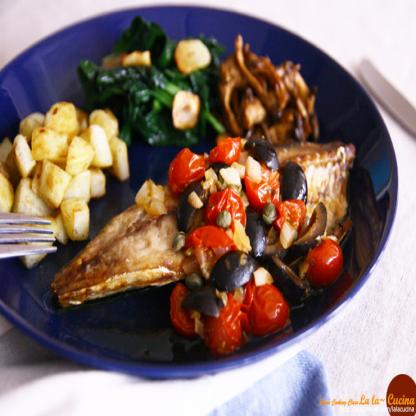Peixe: (53, 137, 368, 330)
